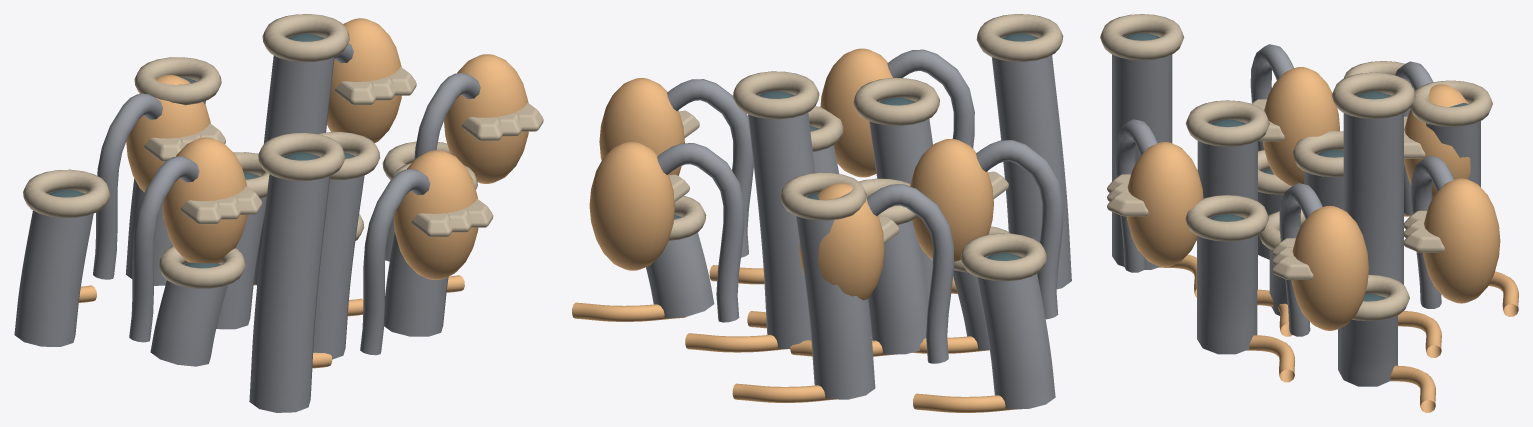
The model's file is bio_thermal_colony_03_near.glb.
3 renders of one model, left to right at view 1: azimuth 30°, elevation 25°; view 2: azimuth 150°, elevation 25°; view 3: azimuth 270°, elevation 25°, orthographic. The views are drawn at different scales.
Visible parts, largest first — view 1: Chimney biofilm.007, Chimney biofilm.009, Pendant spore capsule.002, Pendant spore capsule.004, Pendant spore capsule, Chimney biofilm.002, Pendant spore capsule.003, Chimney biofilm.003, Chimney biofilm.004, Arched fruit stem.004, Arched fruit stem.002, Arched fruit stem.001 (+18 smaller); view 2: Chimney biofilm.003, Chimney biofilm.007, Pendant spore capsule.003, Chimney biofilm.006, Chimney biofilm.009, Pendant spore capsule.004, Chimney biofilm.001, Pendant spore capsule.001, Arched fruit stem.001, Arched fruit stem.003, Pendant spore capsule.002, Pendant spore capsule (+22 smaller); view 3: Chimney biofilm.003, Pendant spore capsule.003, Pendant spore capsule, Pendant spore capsule.002, Chimney biofilm.005, Pendant spore capsule.004, Chimney biofilm.007, Chimney biofilm.008, Chimney biofilm.002, Open vent rim.007, Open vent rim.002, Open vent rim.003 (+27 smaller).
Boxes of the visible parts, <box> form: Chimney biofilm.007: <box>249,155,330,412</box>; Chimney biofilm.009: <box>14,192,93,346</box>; Pendant spore capsule.002: <box>393,150,478,279</box>; Pendant spore capsule.004: <box>162,137,247,263</box>; Pendant spore capsule: <box>444,54,528,183</box>; Chimney biofilm.002: <box>313,154,364,359</box>; Pendant spore capsule.003: <box>327,18,401,143</box>; Chimney biofilm.003: <box>254,36,334,285</box>; Chimney biofilm.004: <box>150,263,227,366</box>; Arched fruit stem.004: <box>129,156,199,342</box>; Arched fruit stem.002: <box>360,169,430,355</box>; Arched fruit stem.001: <box>93,93,162,279</box>; Chimney biofilm.003: <box>748,93,814,348</box>; Chimney biofilm.007: <box>991,36,1071,289</box>; Pendant spore capsule.003: <box>589,142,674,270</box>; Chimney biofilm.006: <box>796,195,875,399</box>; Chimney biofilm.009: <box>977,255,1055,409</box>; Pendant spore capsule.004: <box>910,139,993,261</box>; Chimney biofilm.001: <box>868,220,928,354</box>; Pendant spore capsule.001: <box>799,183,884,300</box>; Arched fruit stem.001: <box>866,184,953,363</box>; Arched fruit stem.003: <box>657,143,744,322</box>; Pendant spore capsule.002: <box>820,48,892,177</box>; Pendant spore capsule: <box>599,78,684,175</box>; Chimney biofilm.003: <box>1343,94,1403,315</box>; Pendant spore capsule.003: <box>1423,178,1500,303</box>; Pendant spore capsule: <box>1291,205,1368,330</box>; Pendant spore capsule.002: <box>1127,142,1203,266</box>; Chimney biofilm.005: <box>1197,217,1257,354</box>; Pendant spore capsule.004: <box>1263,67,1339,186</box>; Chimney biofilm.007: <box>1112,35,1172,269</box>; Chimney biofilm.008: <box>1338,296,1397,386</box>; Chimney biofilm.002: <box>1197,122,1257,289</box>; Open vent rim.007: <box>1100,14,1184,60</box>; Open vent rim.002: <box>1185,100,1269,146</box>; Open vent rim.003: <box>1331,72,1415,118</box>.
Size of the model in its own units: 1.76 by 0.9095 by 1.39.
